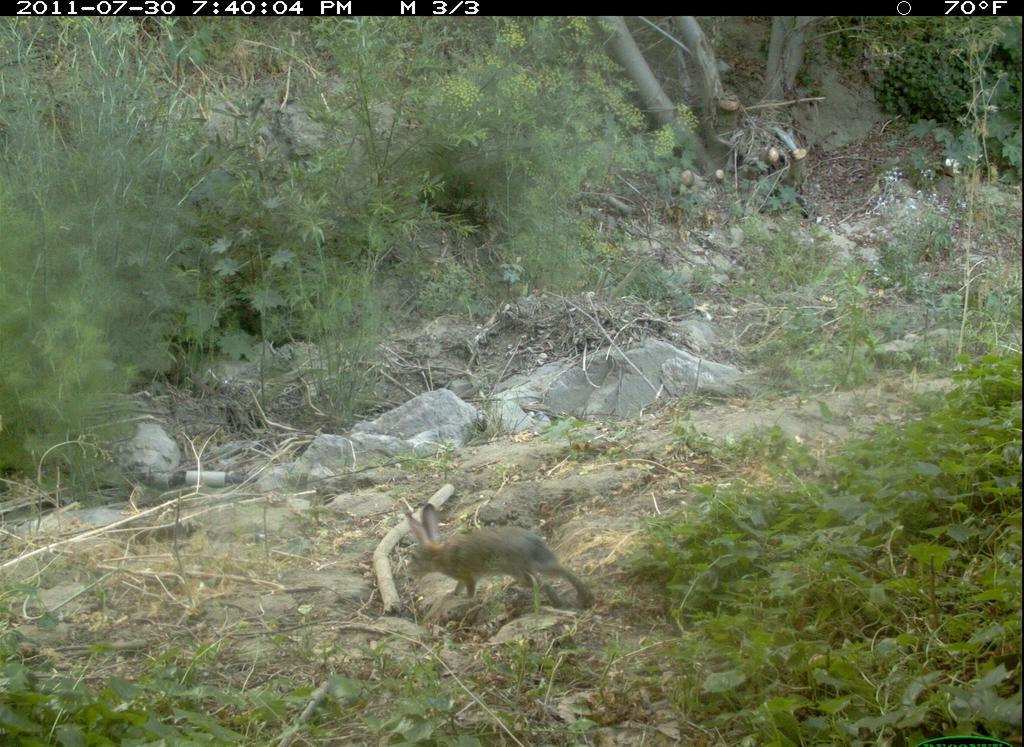rabbit: (392, 496, 606, 619)
